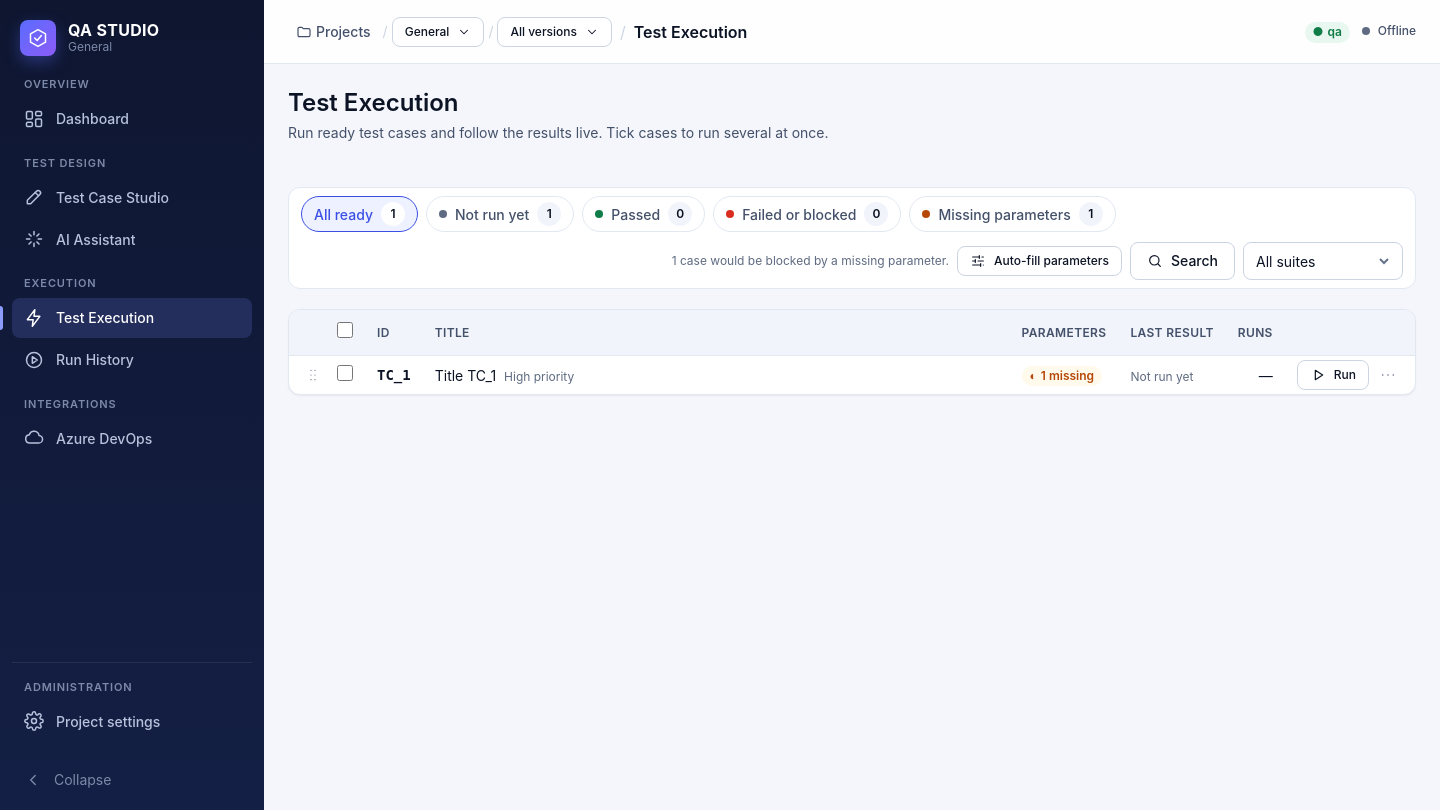
Test: starting a run › offers one shared window only when there are two or more test cases
Step 1. Click the button with aria-label "Run TC_1" → (1333,375), box [1297, 360, 1369, 390]
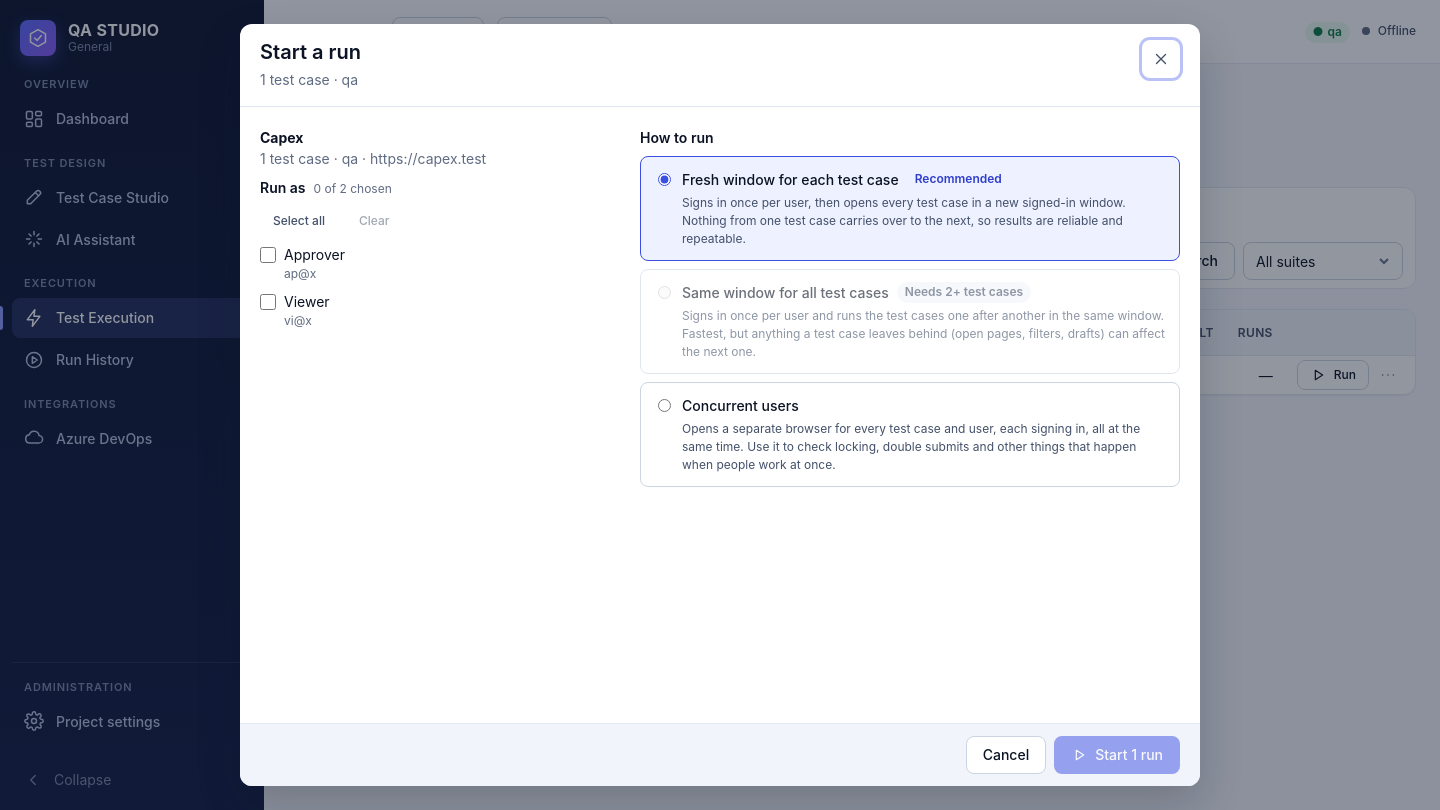
Result: the radio button labelled "Same window" is disabled at [658, 286, 671, 299]
Result: the text "Needs 2+ test cases" is shown at [897, 282, 1031, 303]
Result: the radio button labelled "Fresh window" is enabled at [658, 173, 671, 186]
